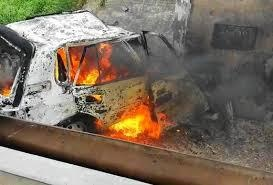fire: (104, 97, 174, 144), (55, 41, 117, 84)
